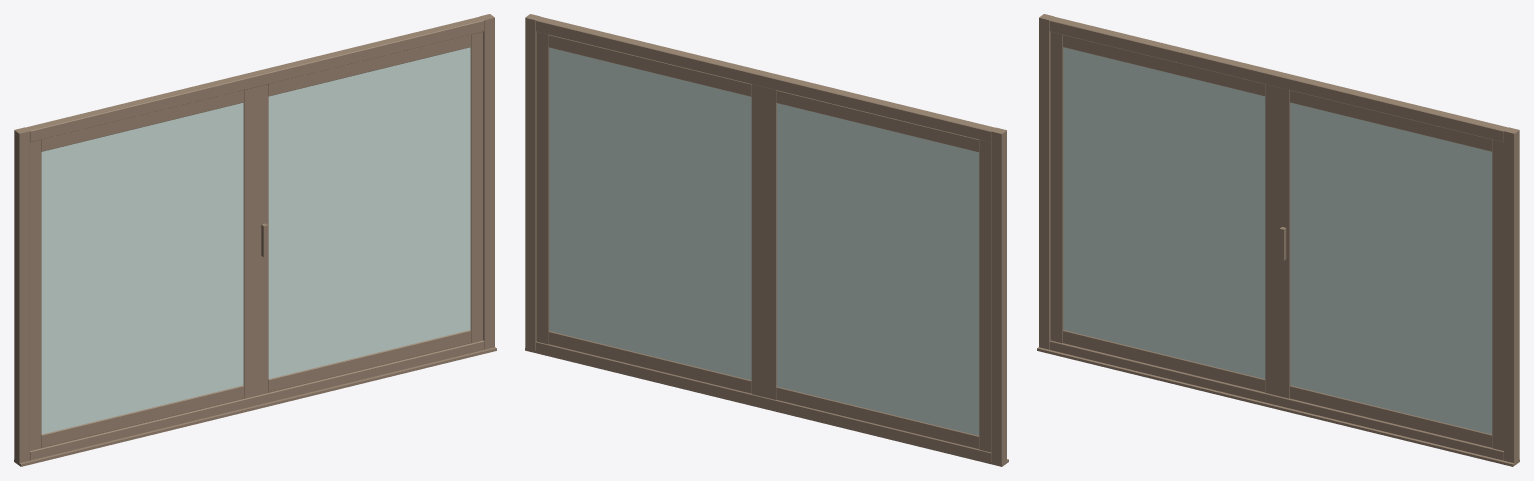
The model's file is bt-S46-2-ferme-quartz-1019.glb.
3 renders of one model, left to right at view 1: azimuth 30°, elevation 25°; view 2: azimuth 150°, elevation 25°; view 3: azimuth 330°, elevation 25°, orthographic.
Visible parts, largest first — view 1: verre, structure; view 2: verre, structure; view 3: verre, structure.
Part boxes in pixels (x1=…): verre: x1=41, y1=47, x2=470, y2=434; structure: x1=14, y1=14, x2=496, y2=466; verre: x1=549, y1=47, x2=979, y2=435; structure: x1=525, y1=14, x2=1008, y2=466; verre: x1=1063, y1=47, x2=1492, y2=434; structure: x1=1037, y1=14, x2=1519, y2=466.
Bounding box in the file's own units: 2.4 × 1.6 × 0.0618.
